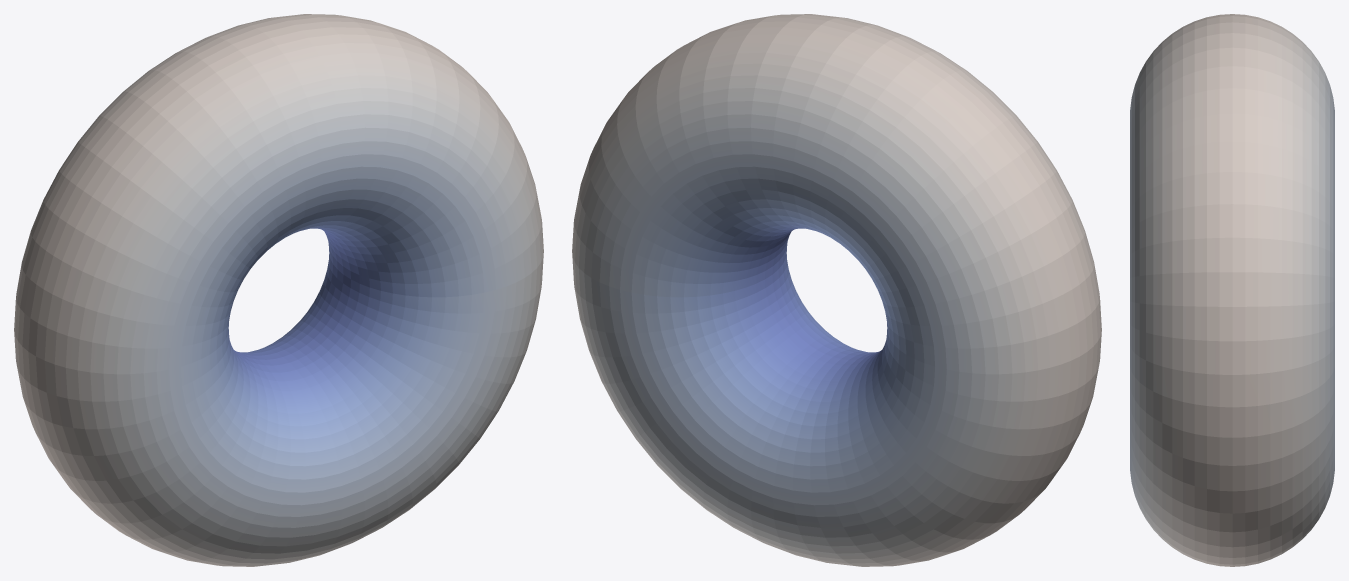
3 views of the same model, side by side, from view 1: azimuth 30°, elevation 25°; view 2: azimuth 150°, elevation 25°; view 3: azimuth 270°, elevation 25° (orthographic). The views are drawn at different scales.
Visible parts, largest first — view 1: world; view 2: world; view 3: world.
Part boxes in pixels (<box>): world: <box>14,14,543,566</box>; world: <box>572,14,1101,566</box>; world: <box>1130,14,1334,566</box>.
Bounding box in the file's own units: 21.2 × 21.16 × 7.85.
